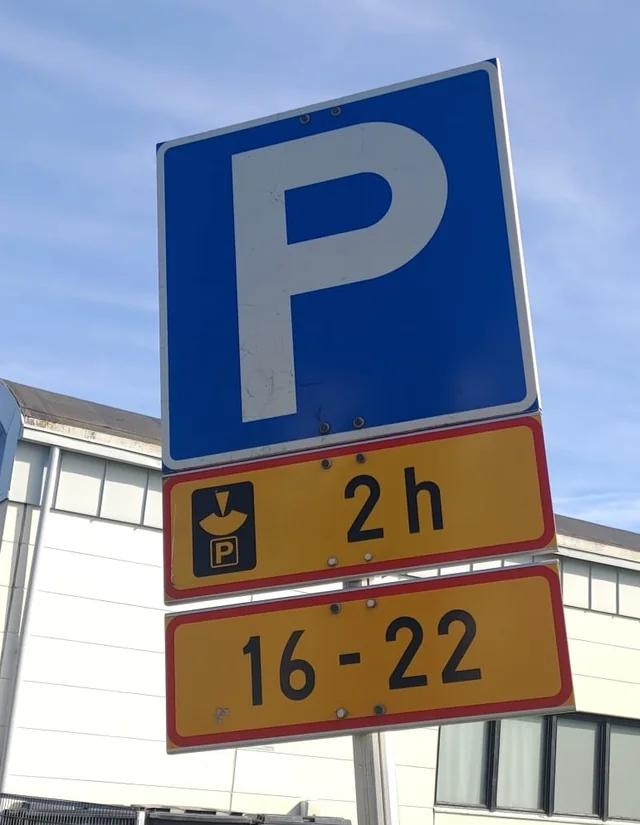parking: (154, 58, 535, 461)
